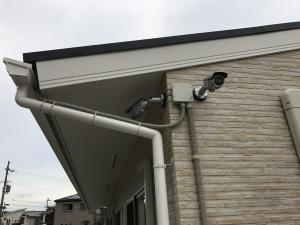tutu: (193, 63, 232, 105)
